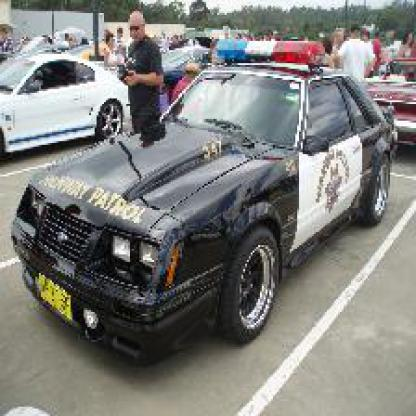emergency: (9, 34, 400, 370)
